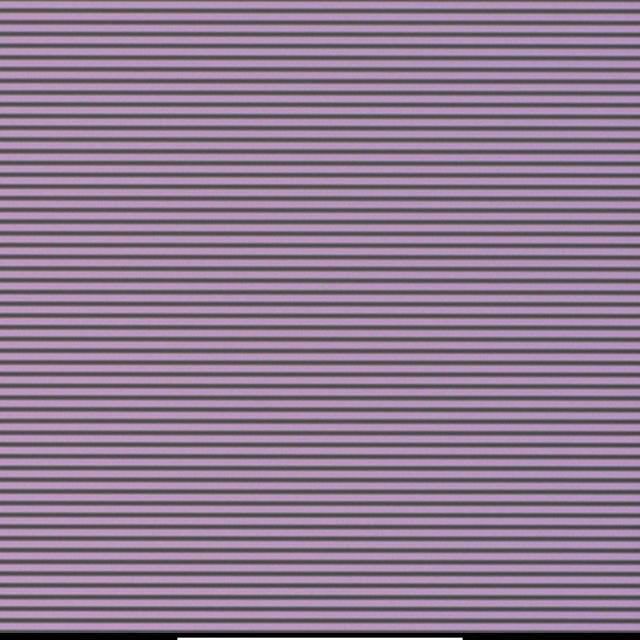nonvisual: (318, 288, 325, 294)
